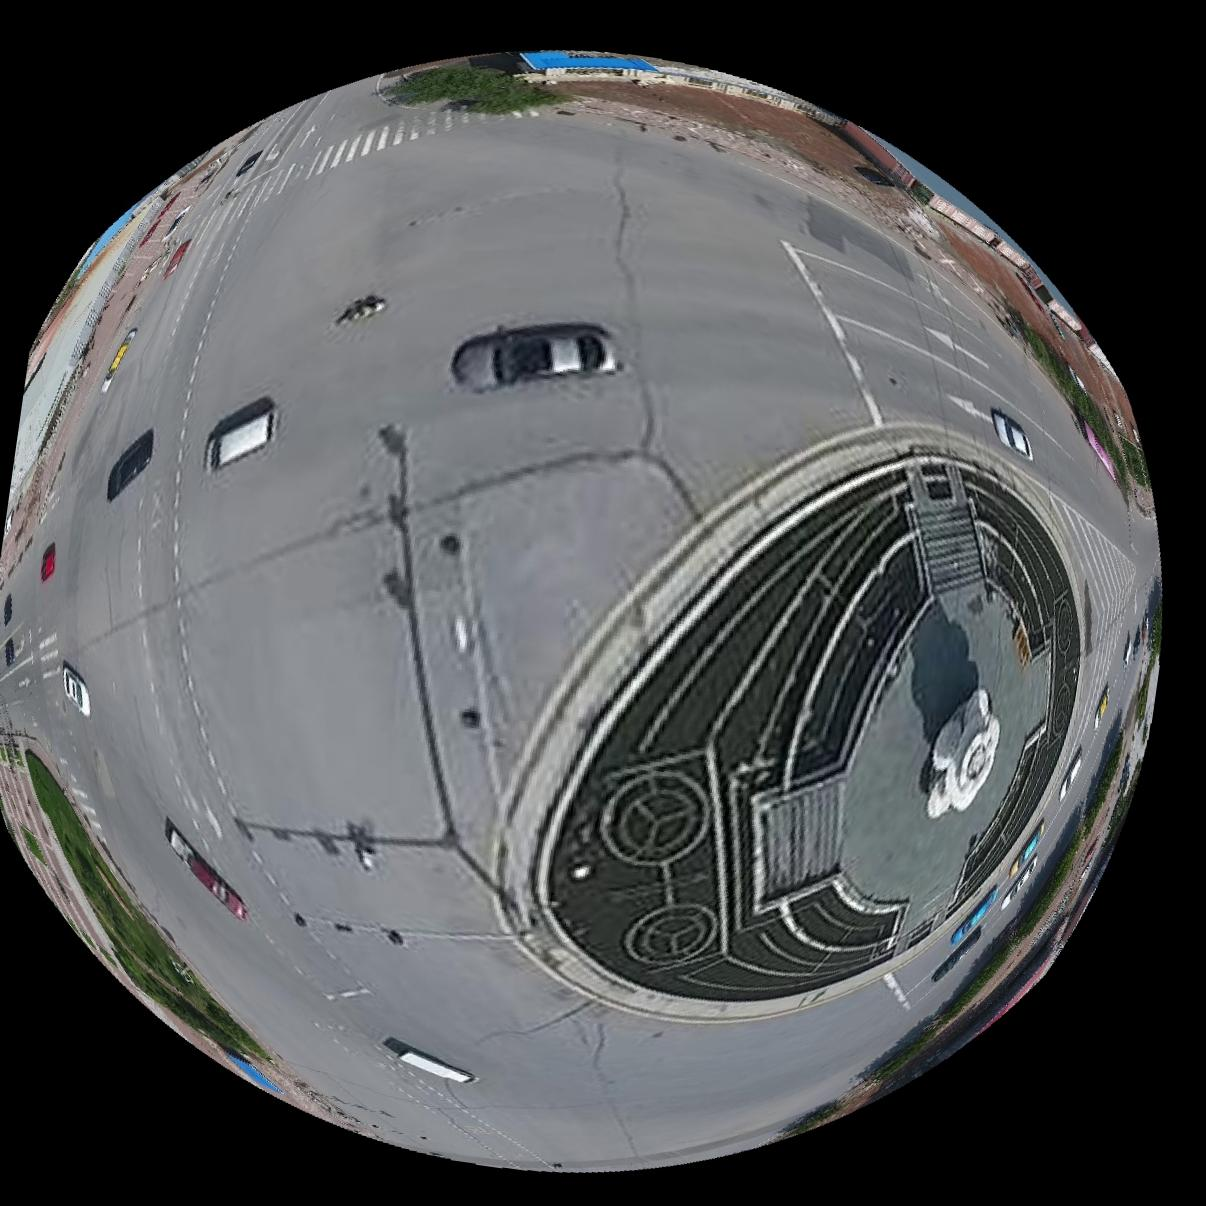cars: (452, 324, 617, 391), (163, 820, 248, 923), (382, 1039, 476, 1086), (204, 406, 274, 468), (105, 429, 153, 501), (993, 408, 1034, 460), (62, 663, 90, 718)
trees: (25, 752, 267, 1061)
